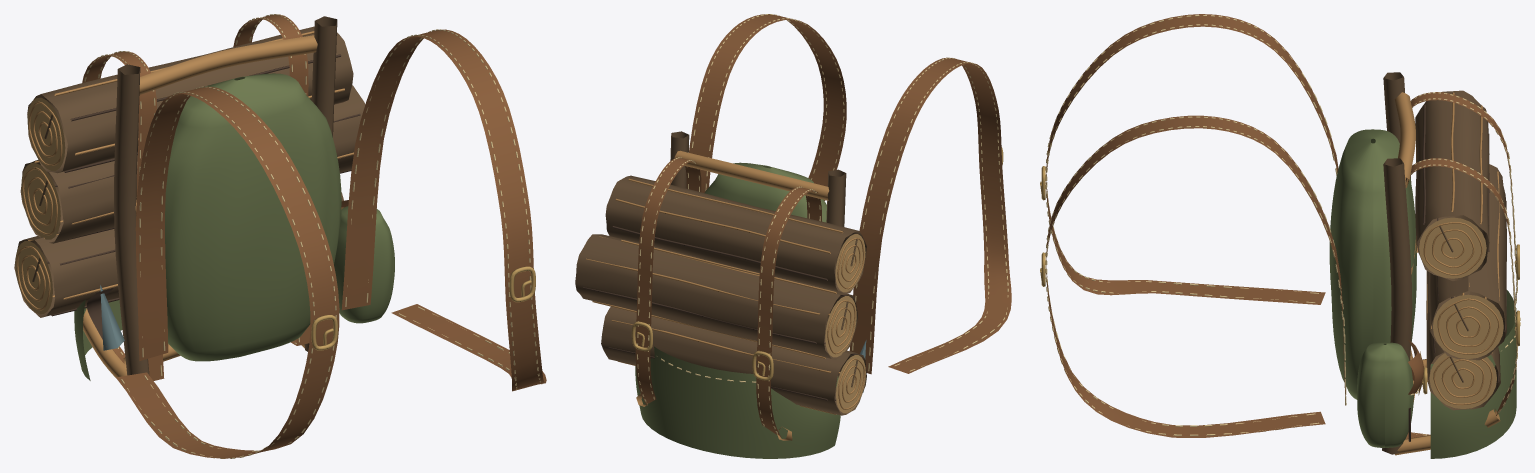
File: lumber_pack.glb
3 renders of one model, left to right at view 1: azimuth 30°, elevation 25°; view 2: azimuth 150°, elevation 25°; view 3: azimuth 270°, elevation 25°, orthographic. The views are drawn at different scales.
Visible parts, largest first — view 1: lumber_pack-leather, lumber_pack-canvas, lumber_pack-bark, lumber_pack-trim, lumber_pack-endgrain, lumber_pack-stitch, lumber_pack-dark, lumber_pack-brass, lumber_pack-iron; view 2: lumber_pack-bark, lumber_pack-leather, lumber_pack-canvas, lumber_pack-trim, lumber_pack-endgrain, lumber_pack-stitch, lumber_pack-dark, lumber_pack-brass; view 3: lumber_pack-canvas, lumber_pack-bark, lumber_pack-leather, lumber_pack-endgrain, lumber_pack-trim, lumber_pack-stitch, lumber_pack-brass, lumber_pack-dark.
Part boxes in pixels (left/top/right/bottom): lumber_pack-leather: left=82, top=14, right=546, bottom=458; lumber_pack-canvas: left=74, top=73, right=394, bottom=380; lumber_pack-bark: left=14, top=16, right=365, bottom=375; lumber_pack-trim: left=16, top=31, right=353, bottom=377; lumber_pack-endgrain: left=15, top=97, right=65, bottom=314; lumber_pack-stitch: left=84, top=14, right=541, bottom=458; lumber_pack-dark: left=47, top=54, right=360, bottom=347; lumber_pack-brass: left=311, top=266, right=535, bottom=350; lumber_pack-iron: left=100, top=285, right=124, bottom=350; lumber_pack-bark: left=575, top=131, right=866, bottom=415; lumber_pack-leather: left=635, top=14, right=1011, bottom=437; lumber_pack-canvas: left=635, top=162, right=840, bottom=458; lumber_pack-trim: left=586, top=150, right=865, bottom=440; lumber_pack-endgrain: left=825, top=234, right=865, bottom=413; lumber_pack-stitch: left=637, top=14, right=1008, bottom=435; lumber_pack-dark: left=583, top=226, right=856, bottom=400; lumber_pack-brass: left=631, top=147, right=1003, bottom=380; lumber_pack-canvas: left=1329, top=129, right=1516, bottom=458; lumber_pack-bark: left=1382, top=72, right=1506, bottom=454; lumber_pack-leather: left=1046, top=14, right=1516, bottom=439; lumber_pack-endgrain: left=1419, top=217, right=1503, bottom=408; lumber_pack-trim: left=1394, top=92, right=1500, bottom=455; lumber_pack-stitch: left=1045, top=15, right=1520, bottom=435; lumber_pack-brass: left=1040, top=166, right=1519, bottom=394; lumber_pack-dark: left=1408, top=104, right=1506, bottom=441.
Size of the model in its own units: 0.8105 by 0.838 by 1.06.
